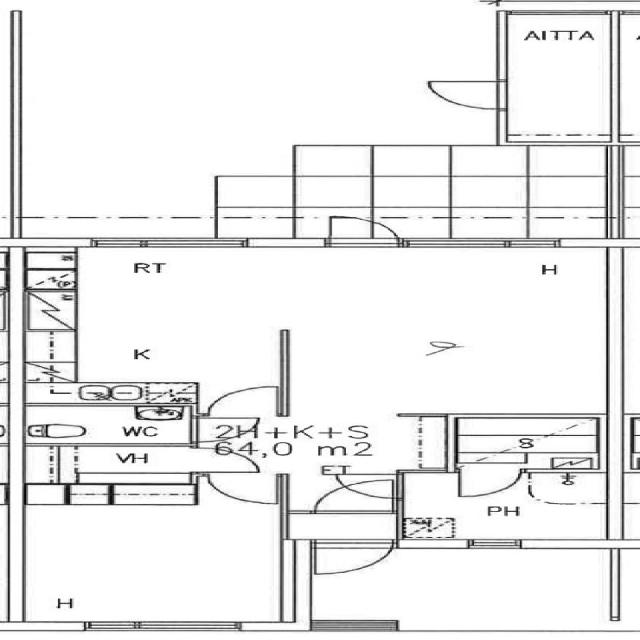door: (304, 538, 397, 578), (418, 77, 511, 112), (200, 383, 290, 419), (308, 482, 398, 515), (199, 471, 284, 505), (318, 214, 402, 248), (451, 465, 525, 499), (329, 475, 404, 501), (190, 450, 261, 473)
window: (384, 235, 579, 253), (83, 235, 253, 252), (90, 618, 245, 635), (310, 618, 402, 633), (461, 537, 528, 551), (1, 444, 17, 486), (1, 404, 15, 441)
zone: (281, 247, 620, 422), (18, 248, 286, 407), (9, 484, 287, 626), (502, 9, 622, 142), (396, 472, 612, 541), (449, 417, 604, 469), (19, 404, 195, 446), (28, 445, 200, 485), (521, 471, 608, 506)
